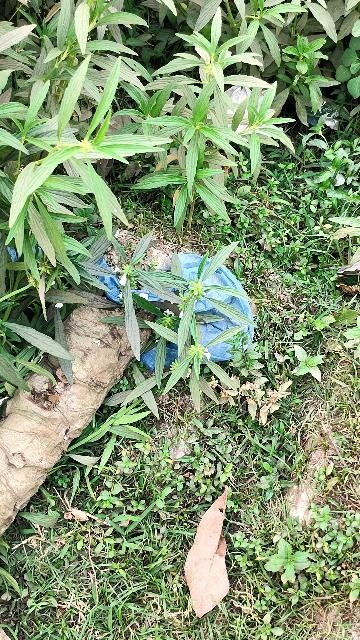packet: (81, 224, 275, 377)
